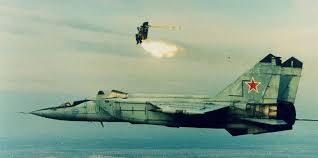fighter: (24, 51, 311, 137)
